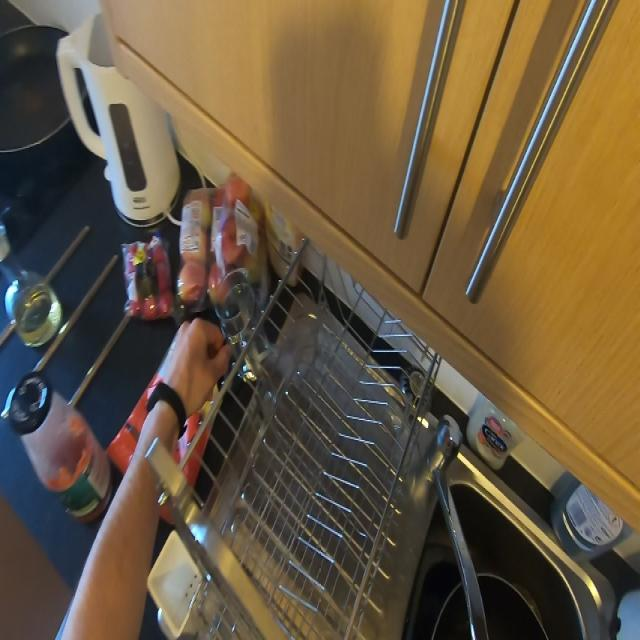cupboard: (273, 1, 640, 358)
kettle: (60, 17, 185, 229)
left hand: (155, 308, 232, 429)
tap: (425, 402, 491, 640)
tomato bottle: (14, 358, 110, 515)
